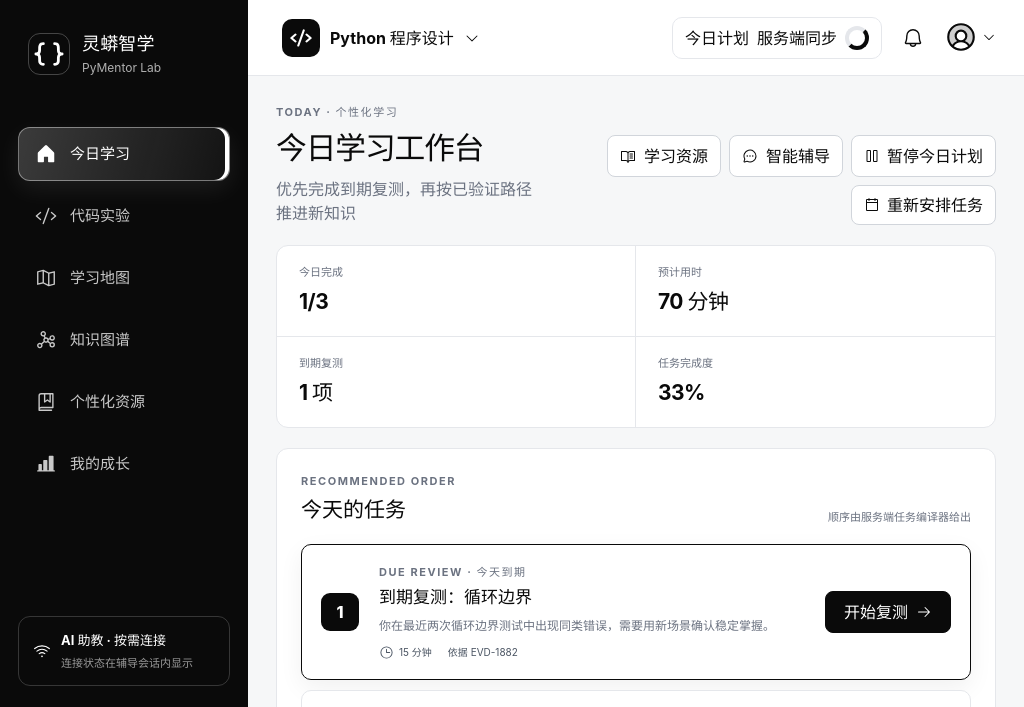
Test: student header button wiring (Stage C) › opens the profile dropdown with 我的画像 / 我的成长 / 退出登录
Click the button named "打开个人菜单". click: [970, 36]
box: [944,16,996,58]
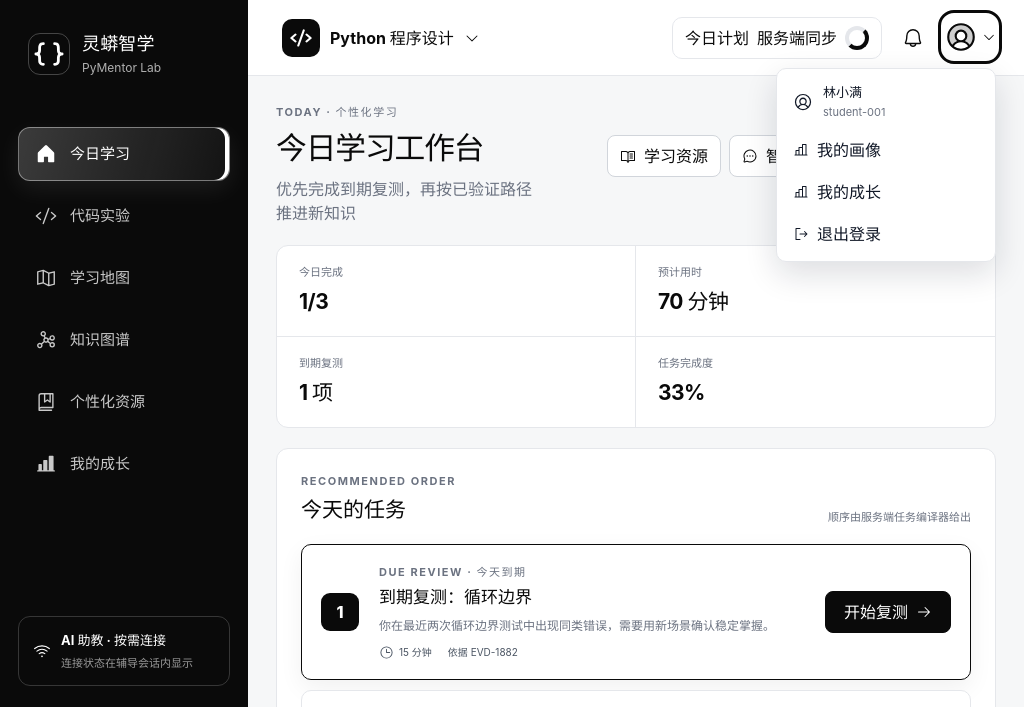
Now the menu item "我的画像" is shown, box [783,128,989,170]
Now the menu item "我的成长" is shown, box [783,170,989,212]
Now the menu item "退出登录" is shown, box [783,212,989,254]
